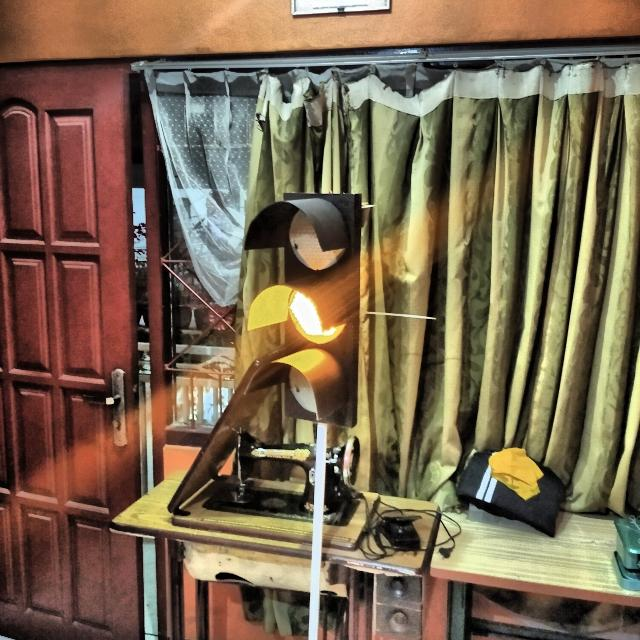yellow: (246, 196, 360, 431)
